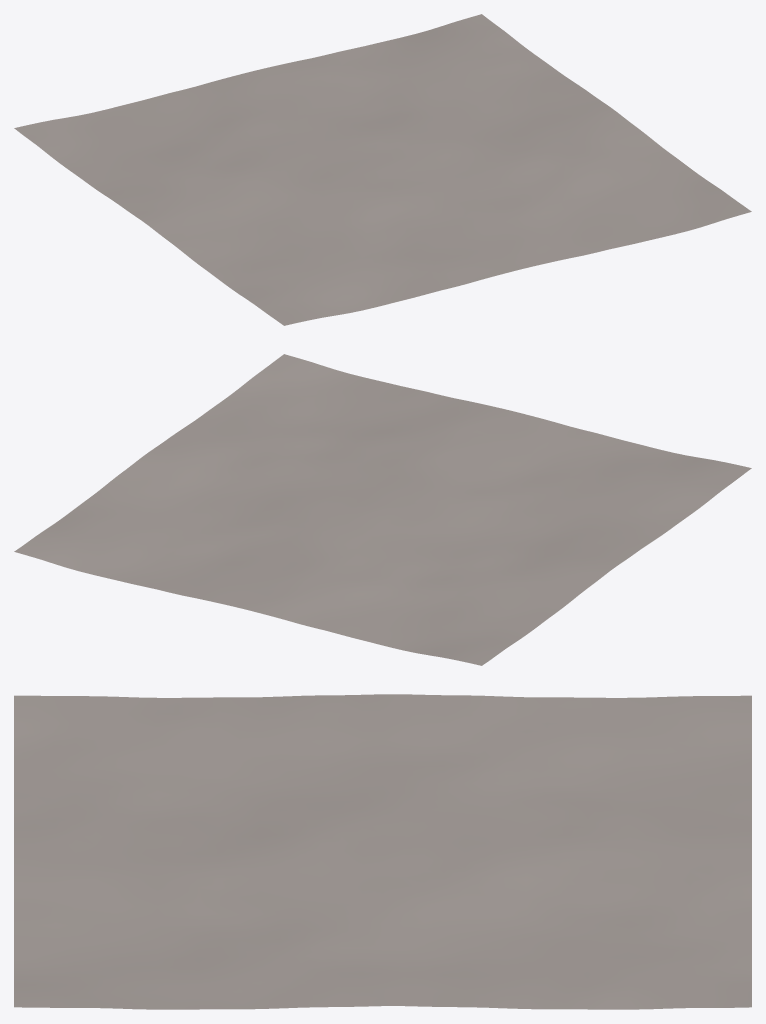
The model's file is ground.fbx.
The picture shows the model from 3 angles, top to bottom: view 1: azimuth 30°, elevation 25°; view 2: azimuth 150°, elevation 25°; view 3: azimuth 270°, elevation 25°; orthographic projection. The views are drawn at different scales.
Visible parts, largest first — view 1: Ground; view 2: Ground; view 3: Ground.
Boxes of the visible parts, x1,y1,x2,y2 form: Ground: [14, 14, 751, 325]; Ground: [14, 354, 751, 665]; Ground: [14, 694, 751, 1009].
Size of the model in its own units: 4158 by 4158 by 41.37.
